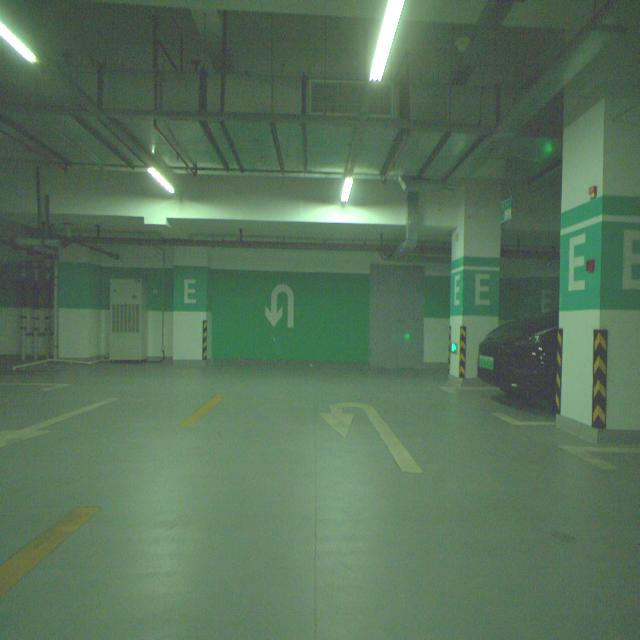pillar: (449, 183, 501, 379)
